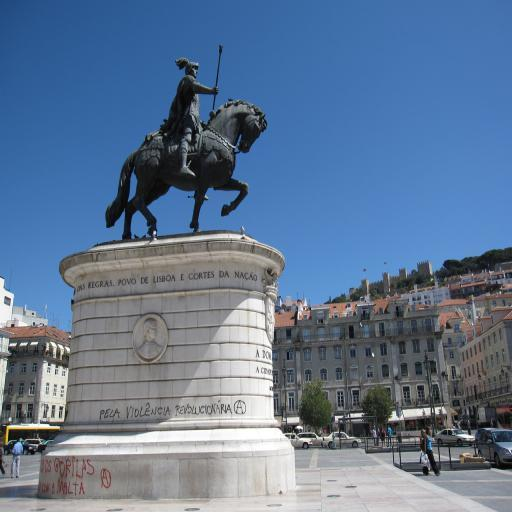horse: (102, 97, 267, 238)
